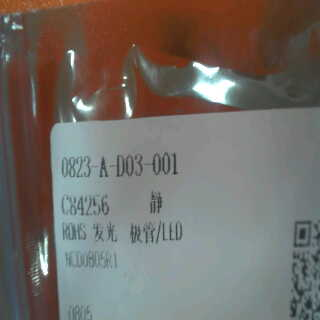LED: (89, 219, 183, 244)
